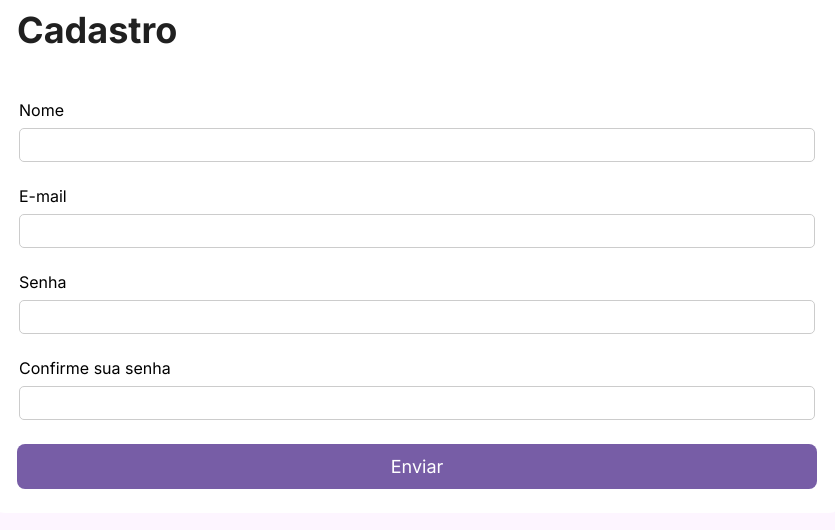
Test case: App › validates password confirmation
Type "John Doe" into the field labelled "Nome".
click(417, 145); type("John Doe")  # box [19,128,815,162]
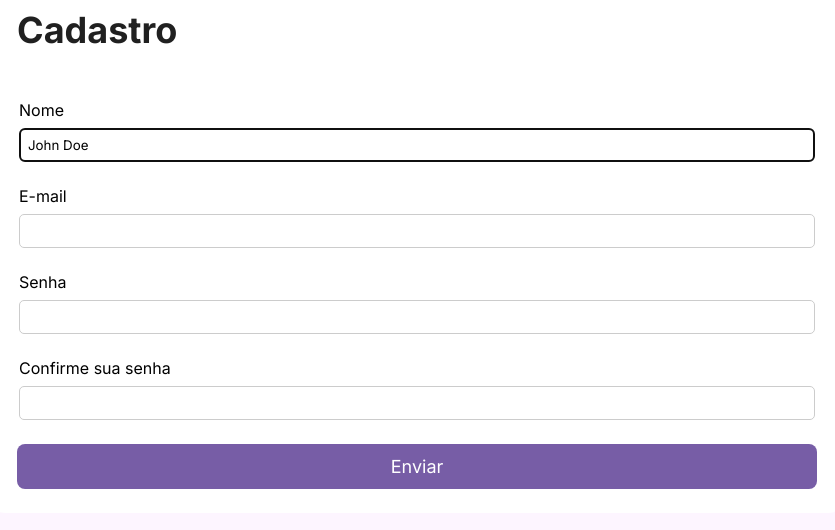
Type "john.doe@example.com" into the field labelled "E-mail".
click(417, 231); type("john.doe@example.com")  # box [19,214,815,248]
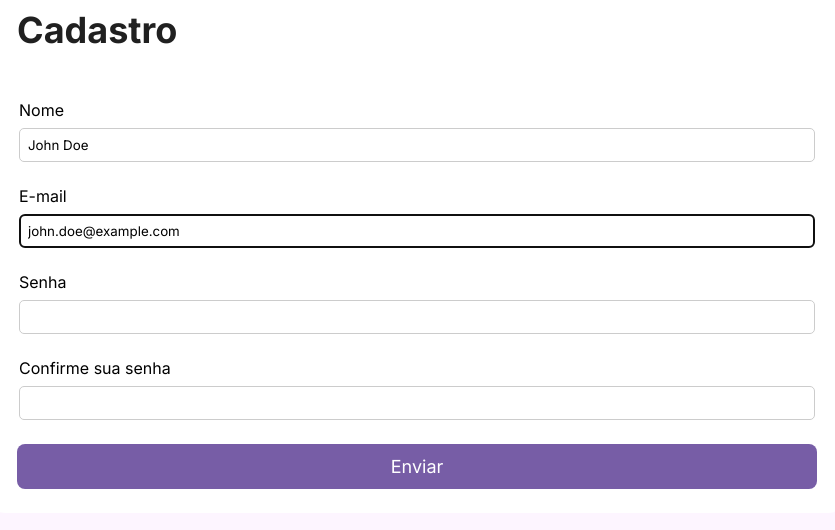
Type "password123" into the password field labelled "Senha".
click(417, 317); type("password123")  # box [19,300,815,334]
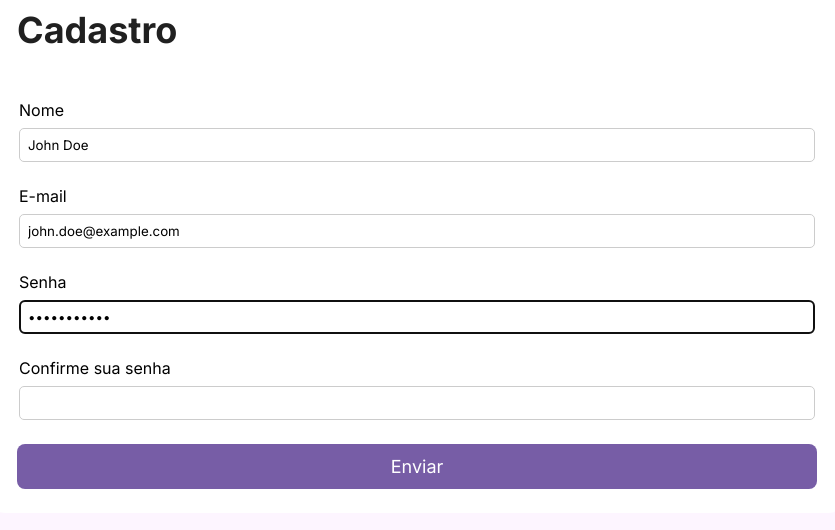
Type "differentPassword" into the password field labelled "Confirme sua senha".
click(417, 403); type("differentPassword")  # box [19,386,815,420]
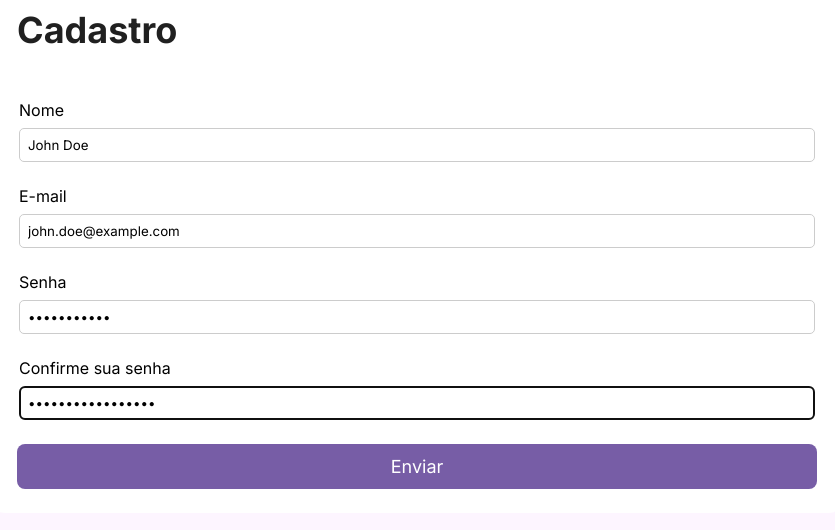
Click the button "Enviar".
click(417, 466)  # box [17,444,817,489]
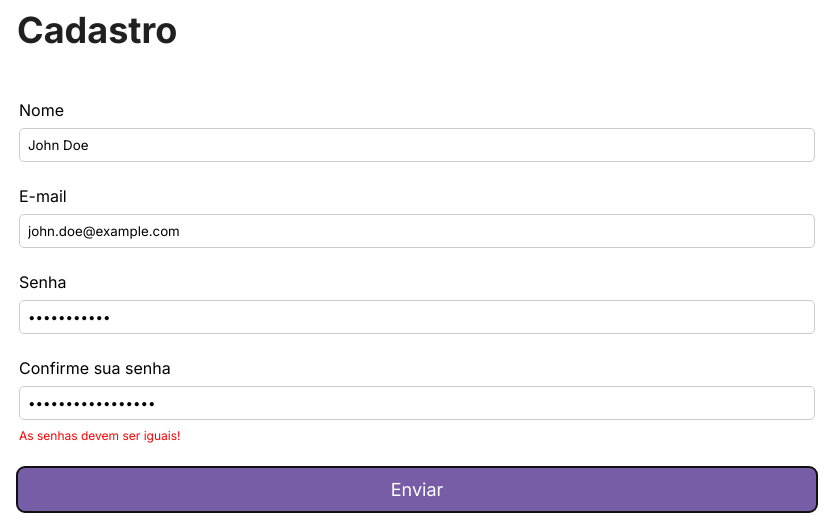
expect the text "As senhas devem ser iguais!" is shown: met, box [19,428,180,443]
